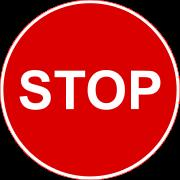Stop: (9, 14, 174, 163)
